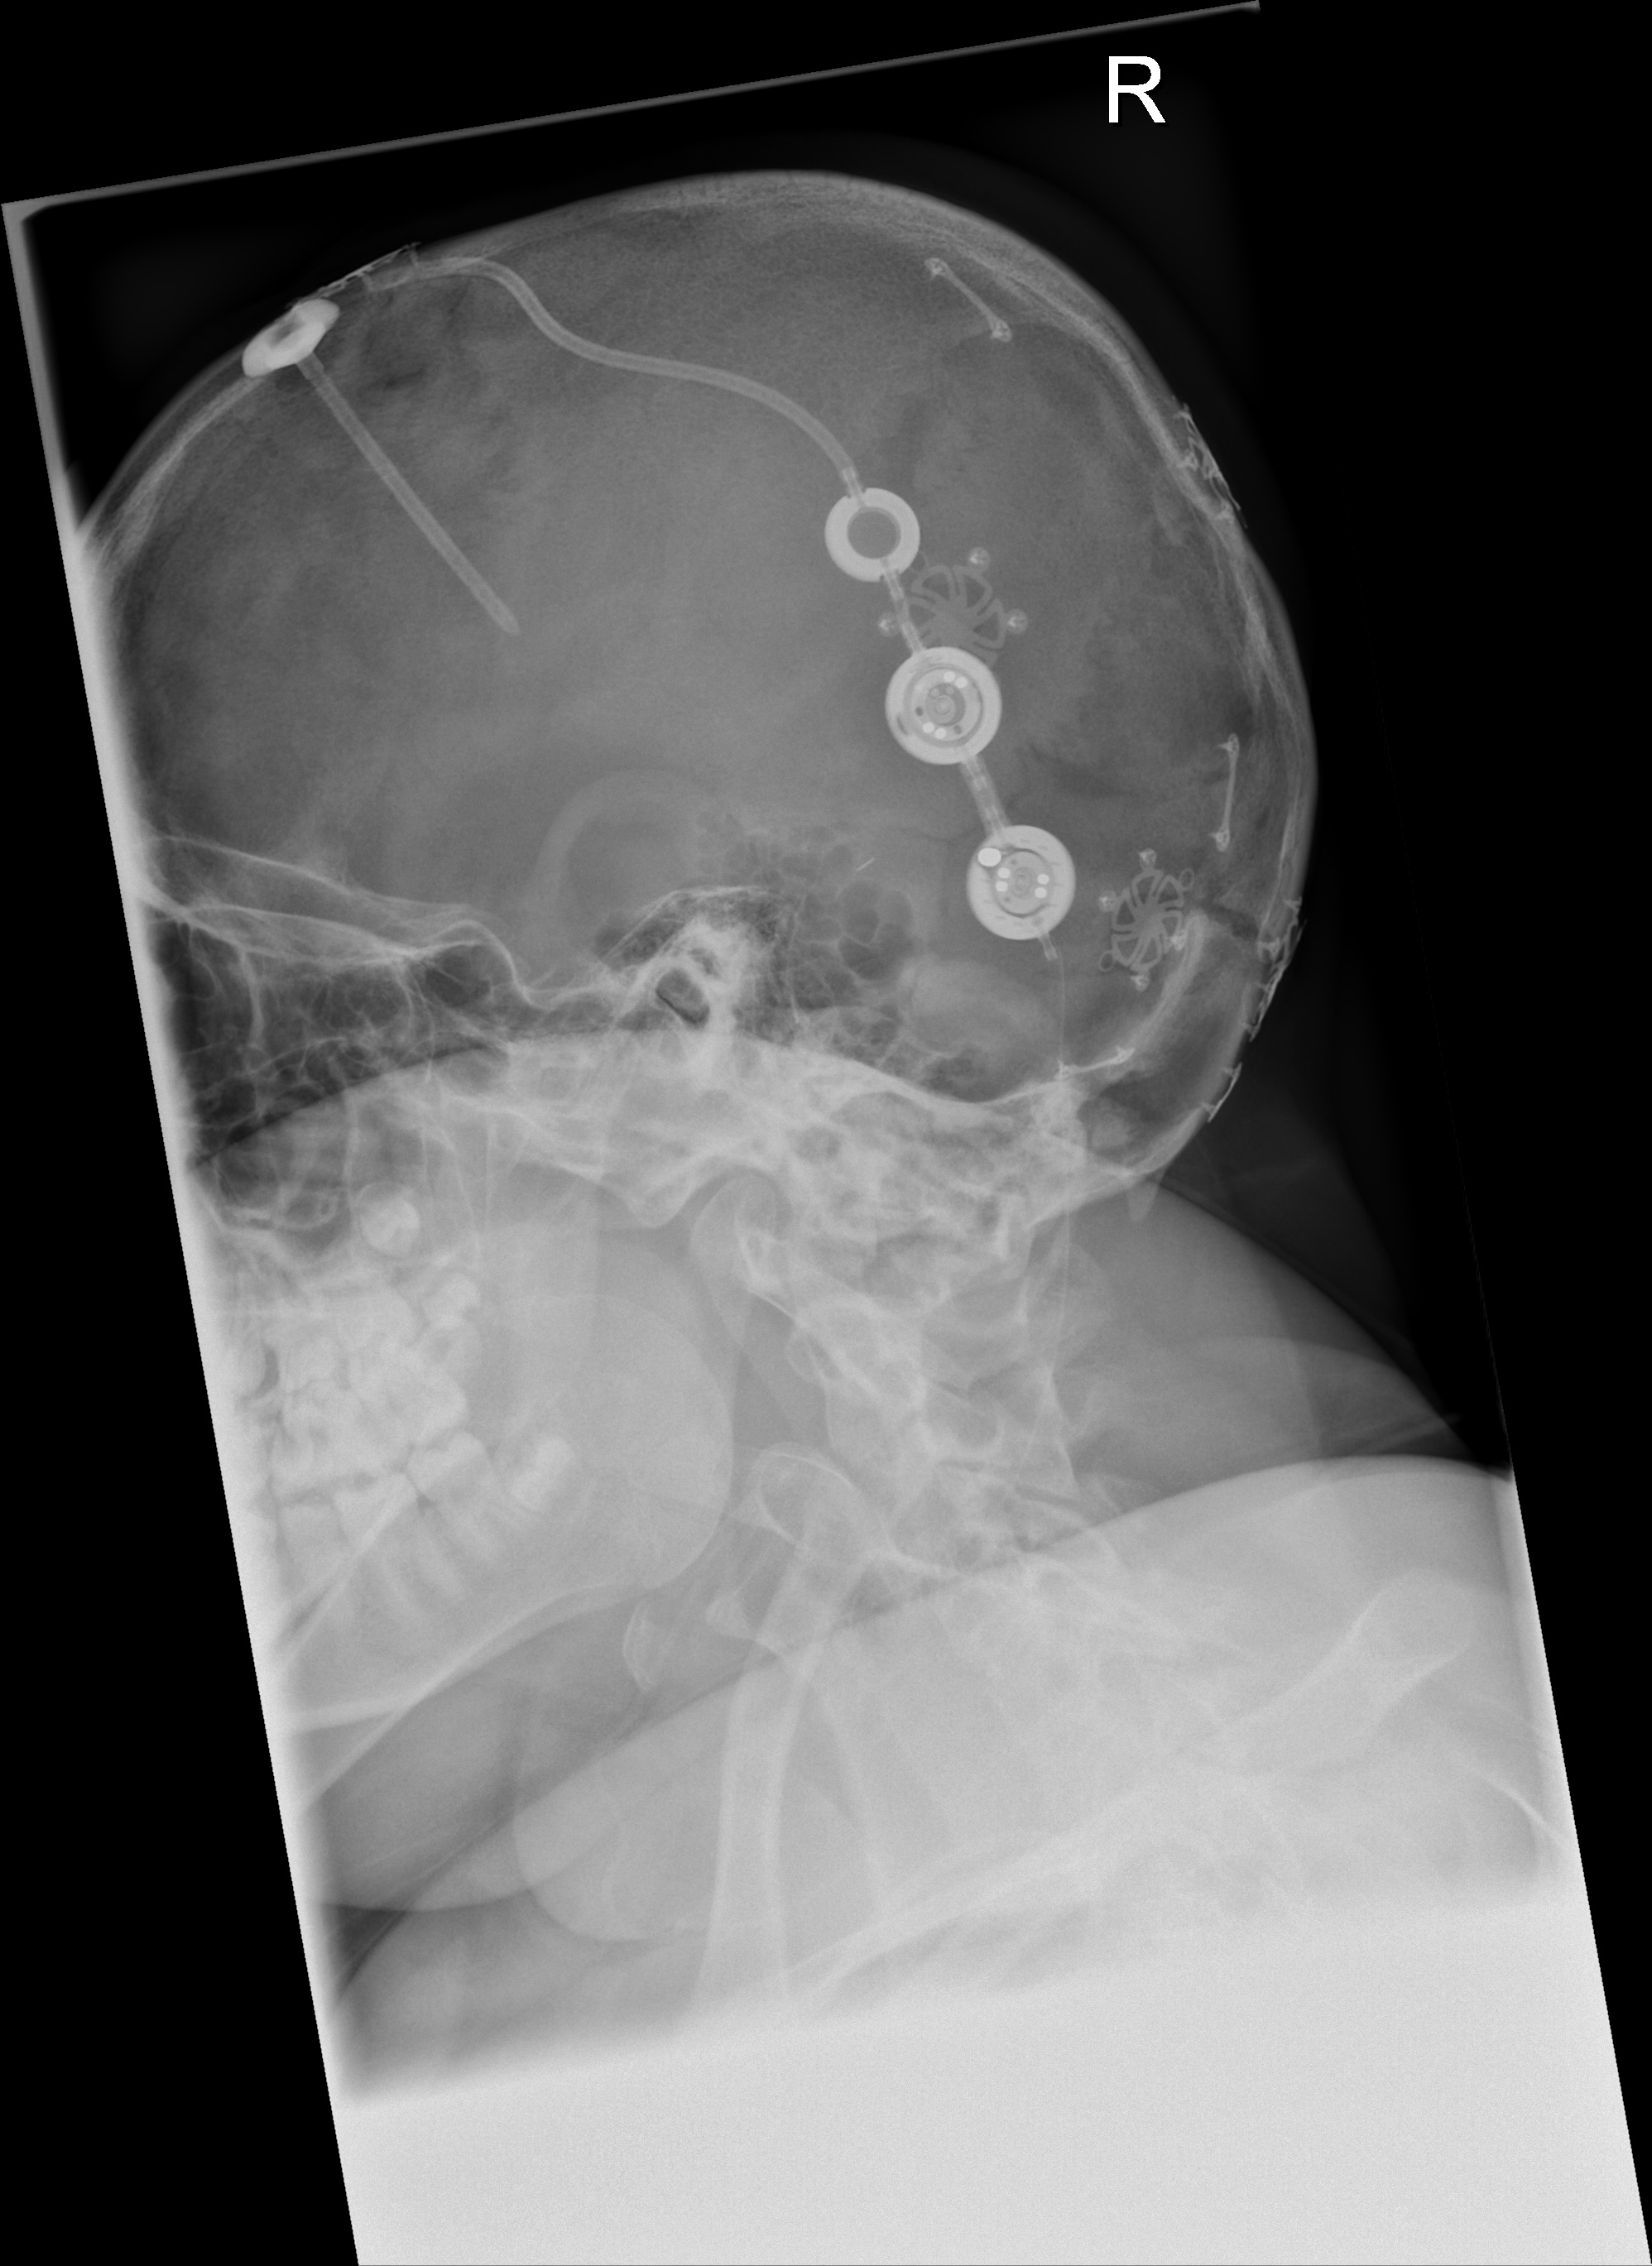m.blue: (961, 820, 1080, 943)
proGAV 2.0: (880, 644, 1008, 769)
